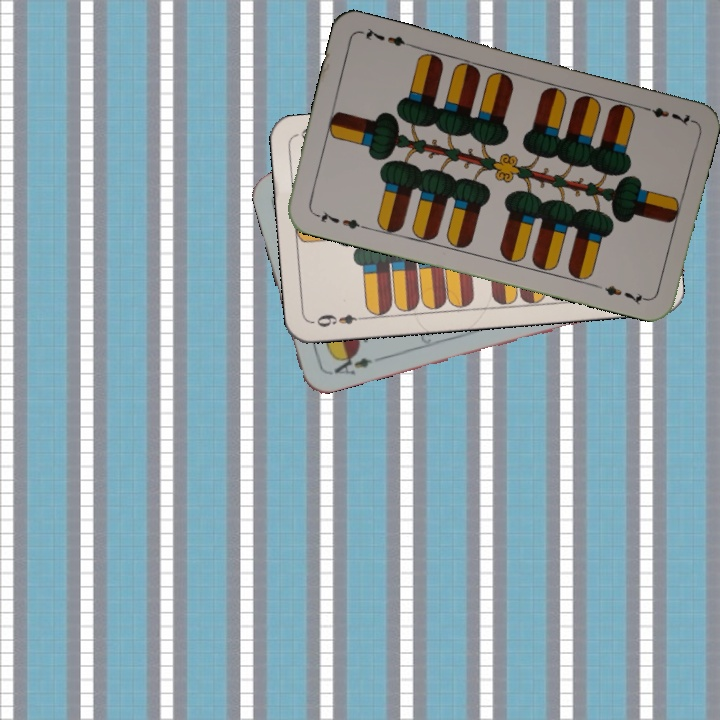E7: (637, 101, 695, 128), (310, 207, 368, 232)
E9: (309, 310, 369, 330)
EA: (325, 349, 375, 378)
